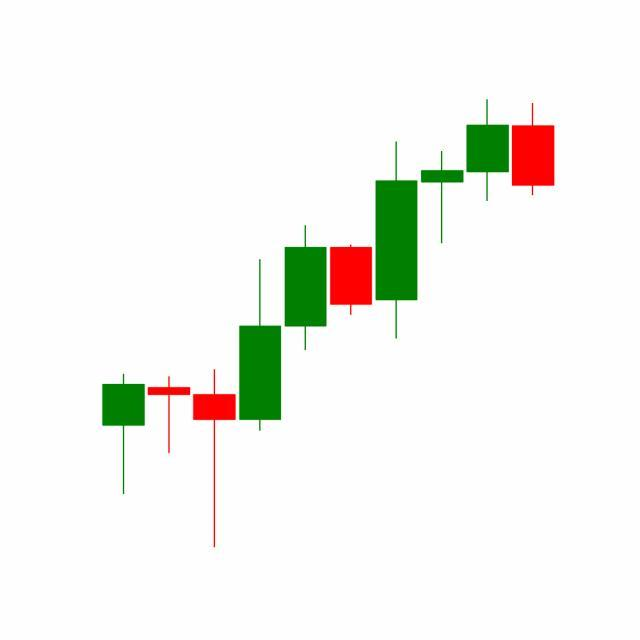Hikkake Pattern: (283, 100, 512, 356)
